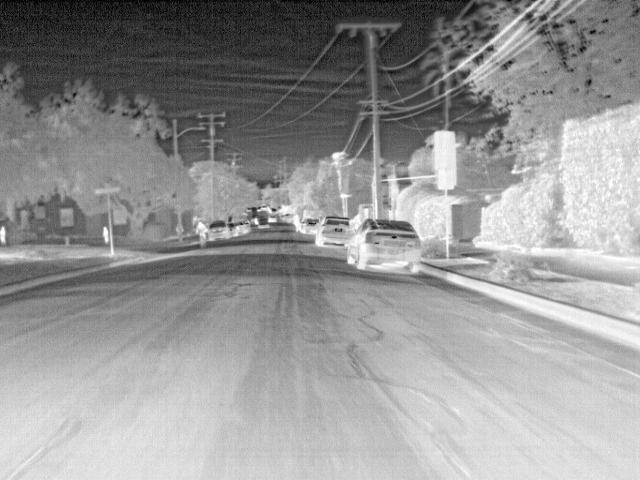car: (347, 218, 423, 274), (314, 214, 353, 248), (207, 219, 233, 238), (297, 216, 317, 234), (237, 218, 252, 234), (228, 220, 243, 236), (256, 216, 271, 230)
person: (194, 220, 206, 236), (0, 224, 10, 243), (100, 224, 108, 243)
